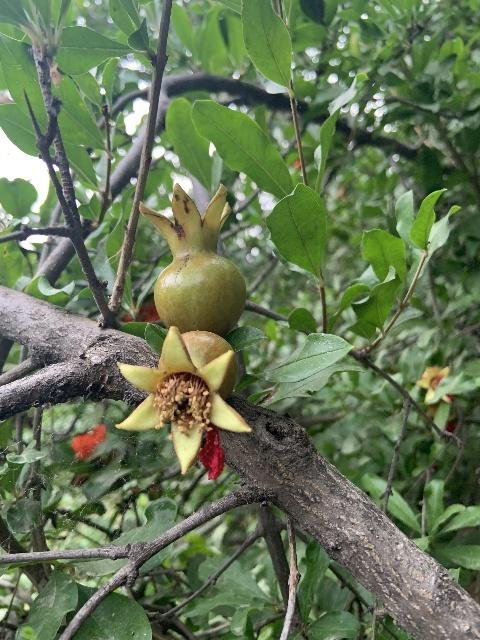early-fruit: (113, 324, 252, 475)
mid-growth: (137, 183, 245, 332)
